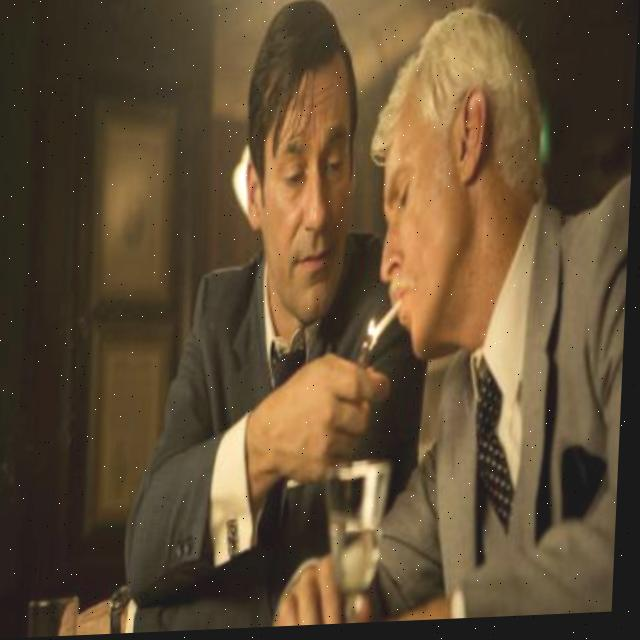cigarette: (370, 301, 410, 355)
